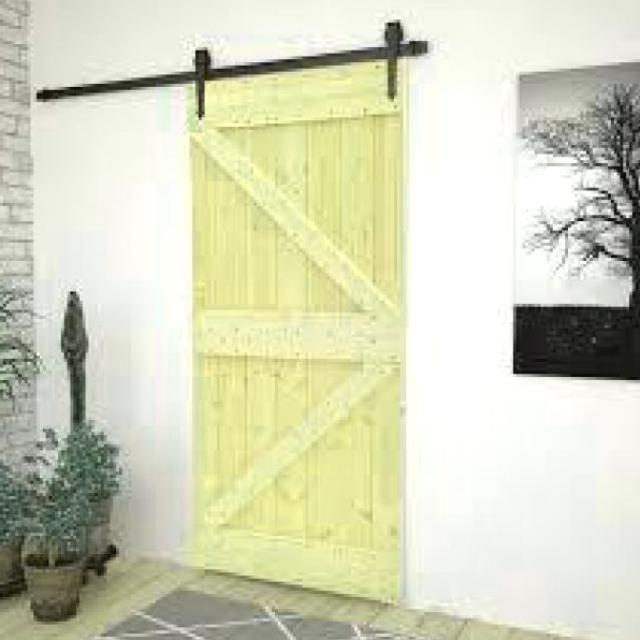door: (174, 42, 425, 614)
